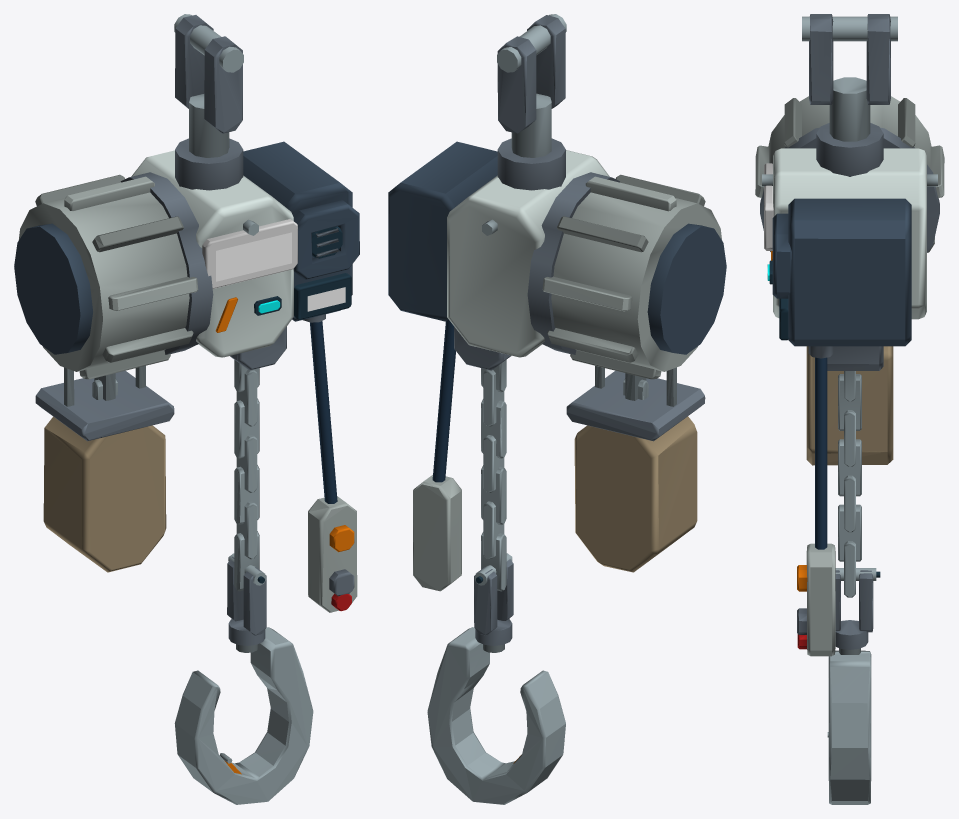
The model's file is palan.glb.
3 renders of one model, left to right at view 1: azimuth 30°, elevation 25°; view 2: azimuth 150°, elevation 25°; view 3: azimuth 270°, elevation 25°, orthographic.
Visible parts, largest first — view 1: corps__gris_clair3, corps__bleu_fonce, load__gris_clair, corps__bleu_nuit, corps__orange_fonce, corps__gris_clair2, corps__gris_clair, corps__blanc, load__bleu_fonce, corps__bleu_nuit3, corps__bleu_nuit2, corps__gris_clair4 (+1 smaller); view 2: corps__gris_clair3, corps__bleu_nuit, load__gris_clair, corps__bleu_fonce, corps__orange_fonce, corps__gris_clair2, corps__gris_clair, load__bleu_fonce, corps__bleu_nuit3; view 3: corps__bleu_nuit, load__gris_clair, corps__bleu_fonce, corps__gris_clair2, corps__gris_clair3, corps__orange_fonce, corps__gris_clair, corps__bleu_nuit3, load__bleu_fonce, corps__gris_clair4, corps__bleu_nuit2.
Part boxes in pixels (<box>): corps__gris_clair3: <box>18,174,357,612</box>; corps__bleu_fonce: <box>35,15,354,596</box>; load__gris_clair: <box>174,360,313,804</box>; corps__bleu_nuit: <box>14,141,359,354</box>; corps__orange_fonce: <box>43,416,166,572</box>; corps__gris_clair2: <box>131,150,293,357</box>; corps__gris_clair: <box>64,14,258,406</box>; corps__blanc: <box>216,232,345,311</box>; load__bleu_fonce: <box>227,556,266,645</box>; corps__bleu_nuit3: <box>310,321,337,503</box>; corps__bleu_nuit2: <box>254,226,351,319</box>; corps__gris_clair4: <box>202,219,297,288</box>; corps__gris_clair3: <box>413,174,721,591</box>; corps__bleu_nuit: <box>388,141,726,354</box>; load__gris_clair: <box>427,360,565,804</box>; corps__bleu_fonce: <box>454,15,705,441</box>; corps__orange_fonce: <box>574,416,697,572</box>; corps__gris_clair2: <box>447,150,609,357</box>; corps__gris_clair: <box>482,14,676,406</box>; load__bleu_fonce: <box>474,559,513,645</box>; corps__bleu_nuit3: <box>432,319,455,482</box>; corps__bleu_nuit: <box>772,198,911,346</box>; load__gris_clair: <box>827,371,876,804</box>; corps__bleu_fonce: <box>760,14,939,634</box>; corps__gris_clair2: <box>773,148,926,319</box>; corps__gris_clair3: <box>755,96,944,656</box>; corps__orange_fonce: <box>806,346,893,465</box>; corps__gris_clair: <box>762,16,937,186</box>; corps__bleu_nuit3: <box>815,357,827,549</box>; load__bleu_fonce: <box>835,570,873,649</box>; corps__gris_clair4: <box>764,163,774,250</box>; corps__bleu_nuit2: <box>769,260,789,340</box>.
Size of the model in its own units: 0.5456 by 1.4 by 0.3132.
